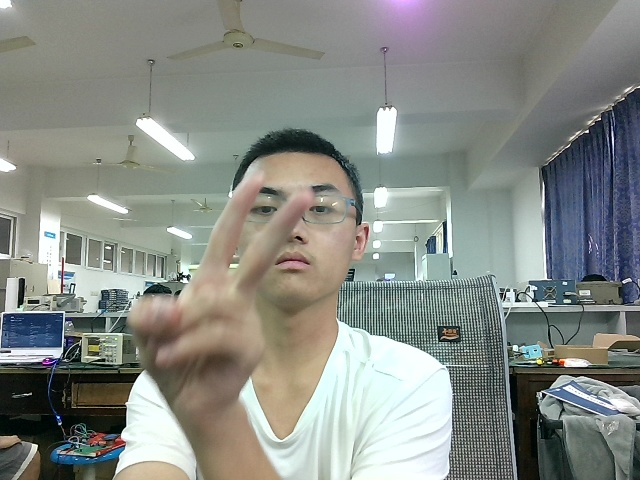scissor: (115, 164, 315, 453)
